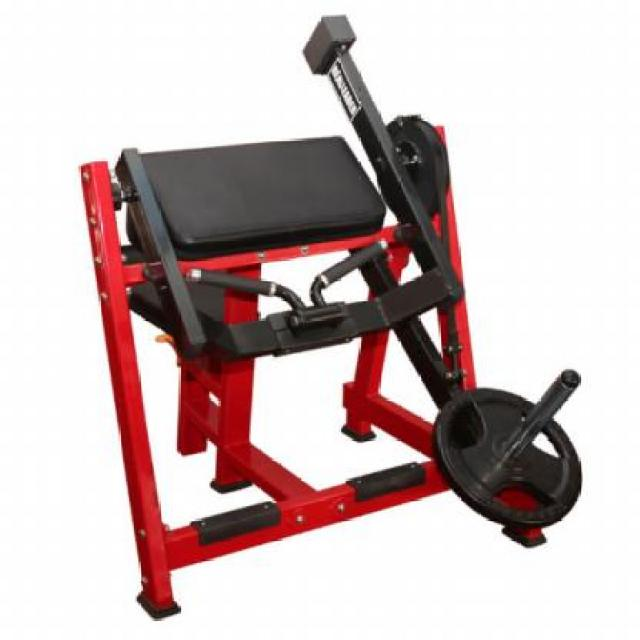arm curl machine: (77, 16, 586, 624)
